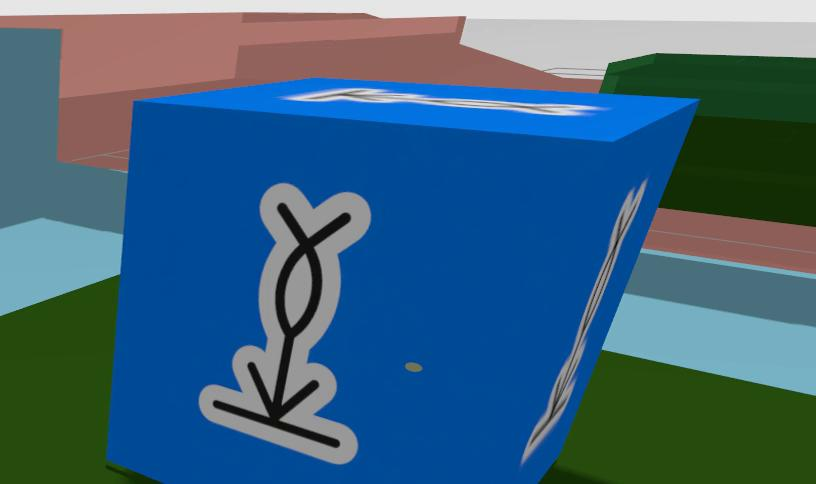KFS_REAL: (107, 75, 694, 484), (200, 183, 370, 463)
